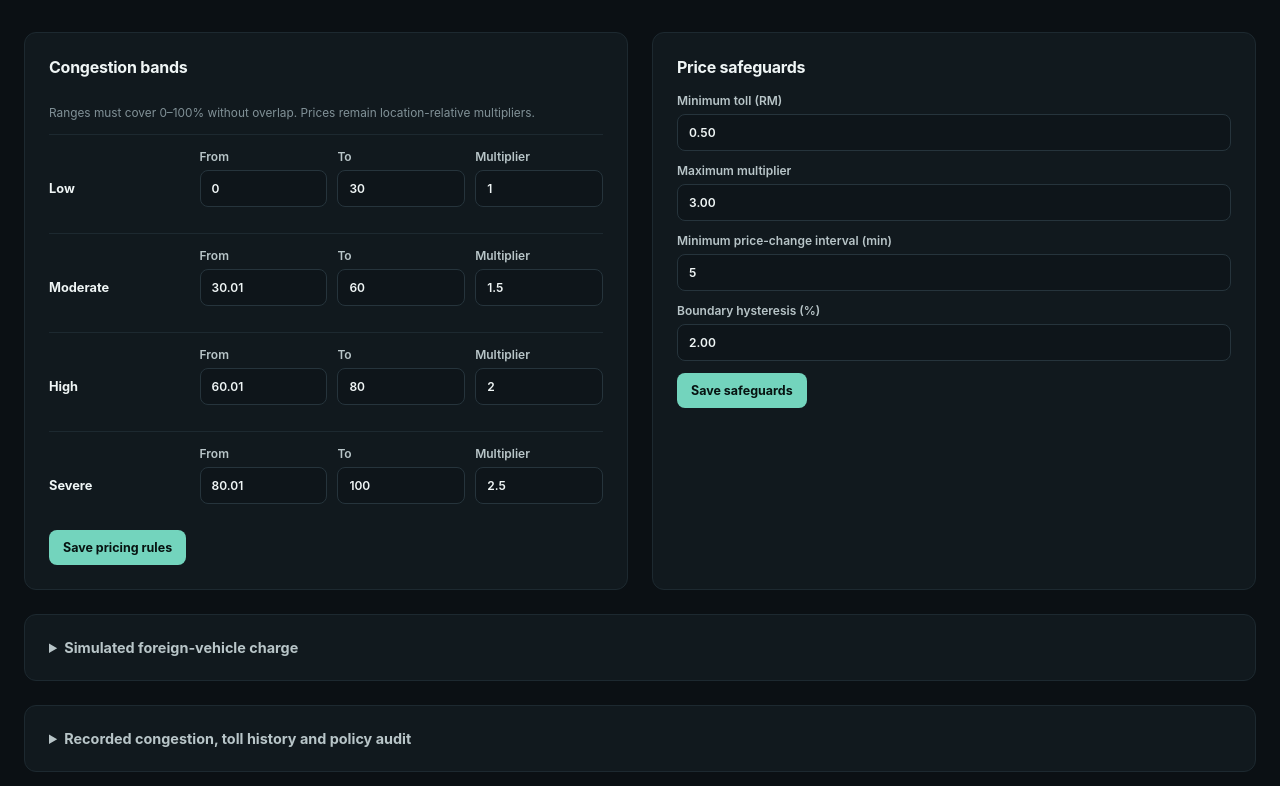
Scenario: congestion pricing form › renders structured backend errors as useful text
Expected: the number field named "moderate minimum" is shown, [200,269,327,306]
Click the button "Save pricing rules": (118,548) [49,530,186,565]
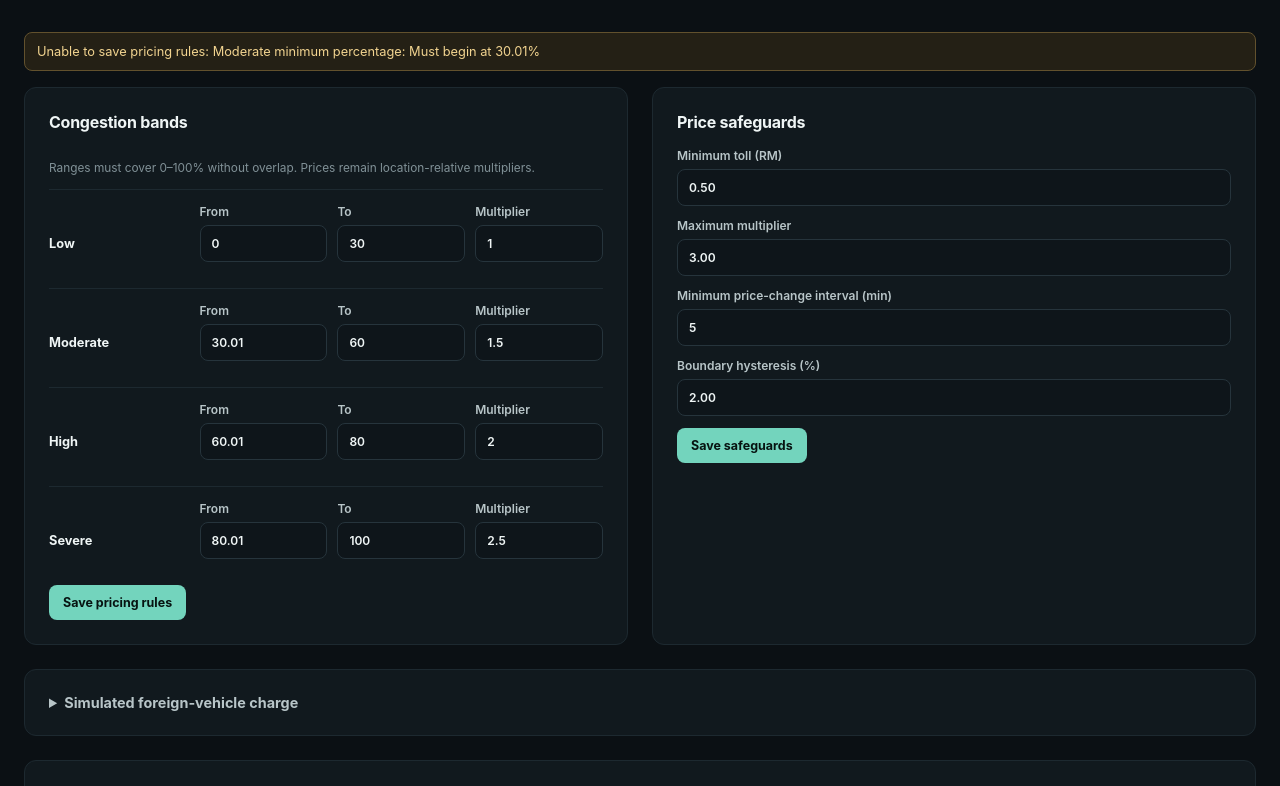
Result: the text "Unable to save pricing rules: Moderate minimum percentage: Must begin at 30.01%" is shown at [24,32,1256,71]
